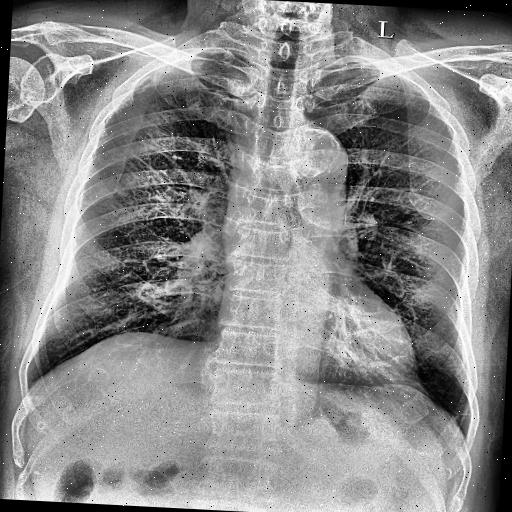0- Aortic enlargement: (206, 103, 365, 229)
13- Pulmonary fibrosis: (451, 409, 476, 425)
2- Calcification: (292, 112, 358, 190), (300, 118, 357, 156)
